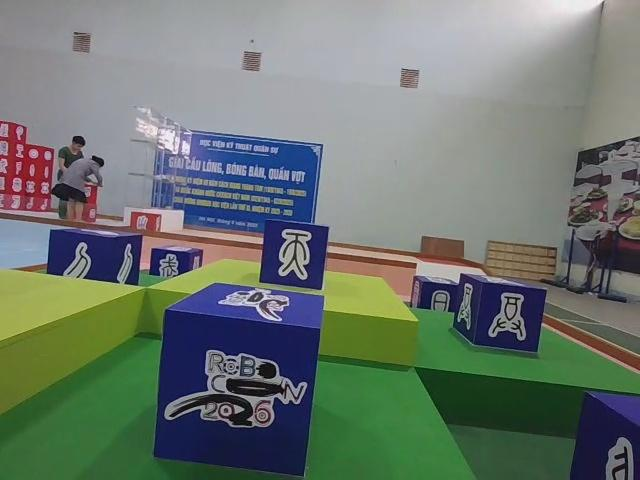R1 Blue: (155, 282, 324, 476)
R2 Fake Blue: (259, 220, 329, 293), (410, 275, 460, 312), (150, 245, 204, 278)
R2 Real Blue: (454, 273, 547, 354), (47, 228, 142, 286)
